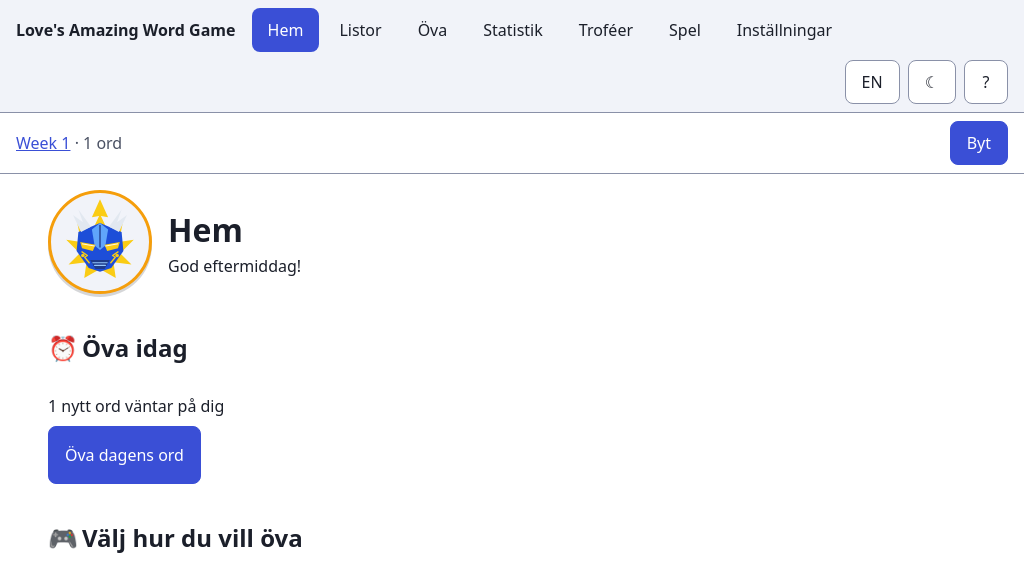
it: games hub › NH-11: is reachable from the main navigation and translated
Click the link "Spel". click: x=685, y=30
box: [669,19,701,41]
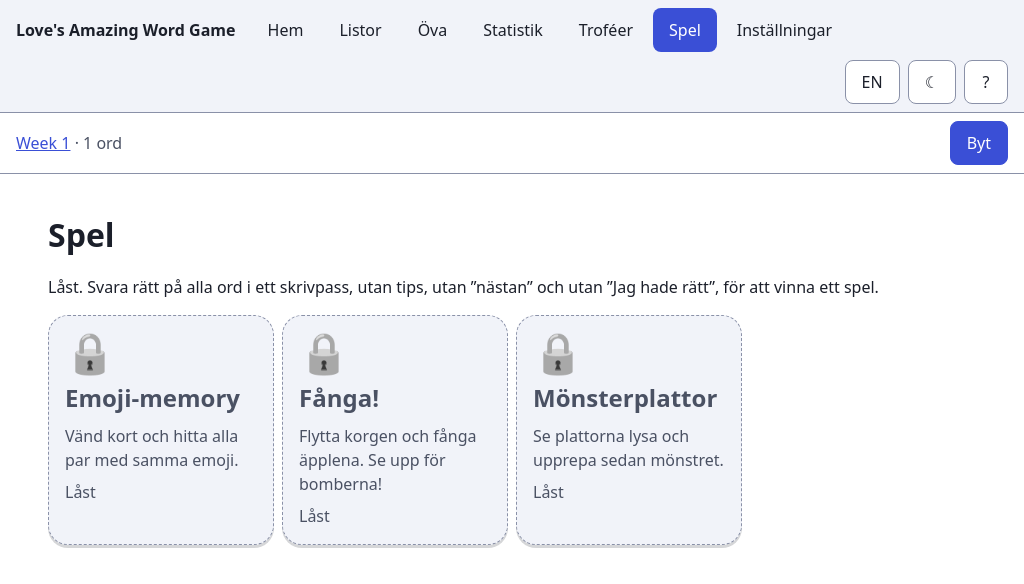
Now the heading "Spel" is shown, box [48,213,115,256]
Now the text "Låst. Svara rätt" is shown, box [48,276,879,298]
